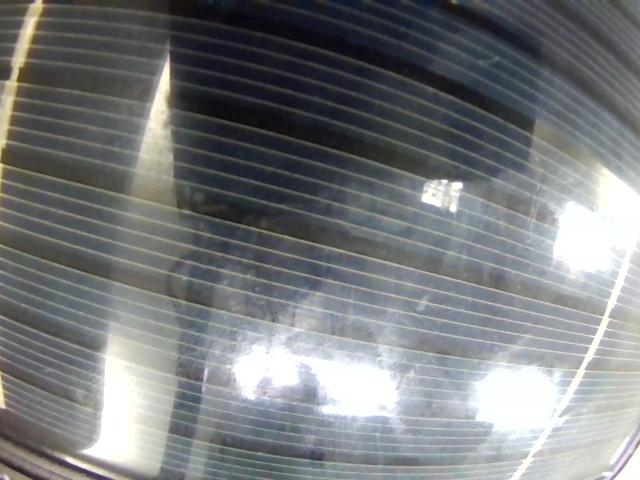crack: (481, 56, 500, 65)
